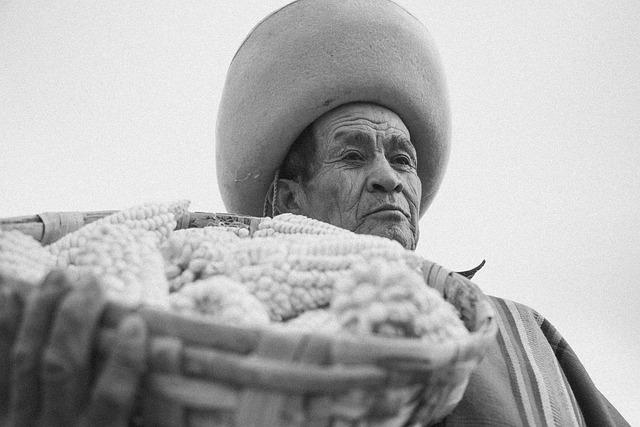Non_Gorille: (171, 0, 548, 416)
